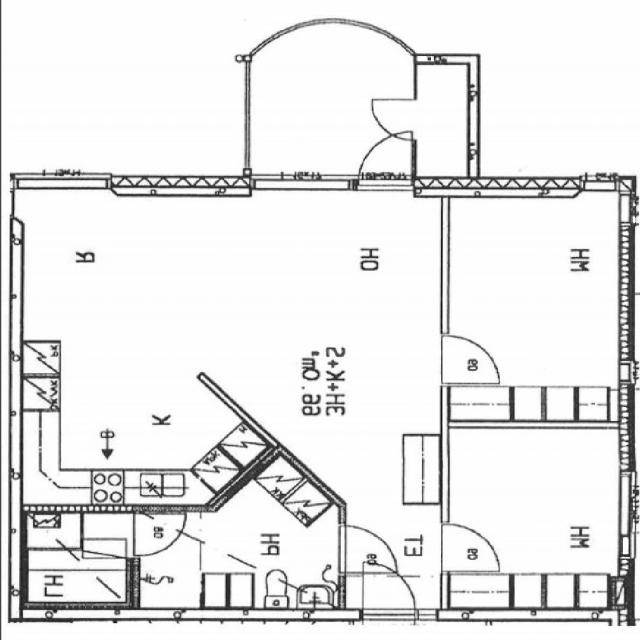door: (359, 129, 411, 190), (363, 560, 415, 621), (441, 335, 502, 384), (339, 525, 398, 573), (440, 524, 500, 570), (130, 513, 186, 555), (369, 99, 418, 140)
